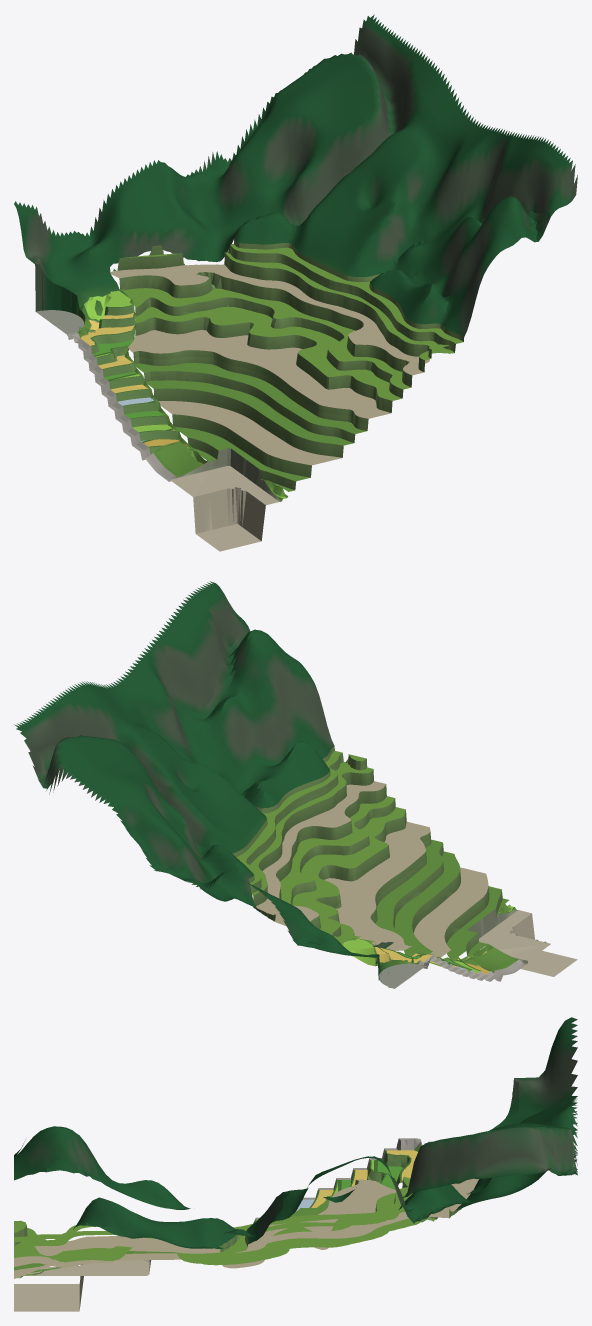
Rendered from payo_land_xm1_ym1_lod1.glb.
The picture shows the model from 3 angles, top to bottom: view 1: azimuth 30°, elevation 25°; view 2: azimuth 150°, elevation 25°; view 3: azimuth 270°, elevation 25°; orthographic projection. The views are drawn at different scales.
Visible parts, largest first — view 1: payo_land_xm1_ym1; view 2: payo_land_xm1_ym1; view 3: payo_land_xm1_ym1.
Part boxes in pixels (x1,y1,x2,y2): payo_land_xm1_ym1: (14, 14, 577, 551); payo_land_xm1_ym1: (14, 581, 577, 988); payo_land_xm1_ym1: (14, 1017, 577, 1311).
Size of the model in its own units: 258 by 206 by 258.
